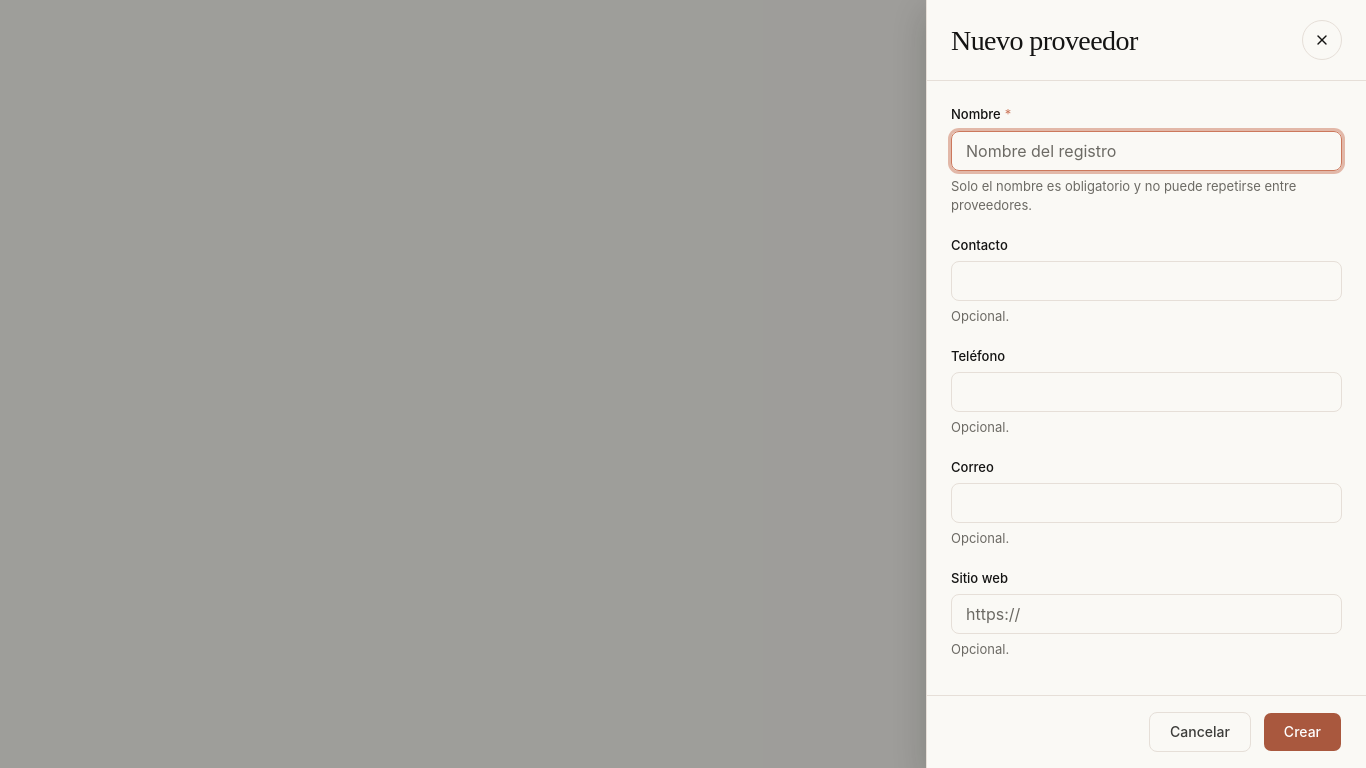
Test: ProveedorFormDialog › el sitio web www.proveedor.com muestra el error y no envía
In the field labelled "Nombre": (1146, 150) [951, 130, 1342, 170], type "Acme"
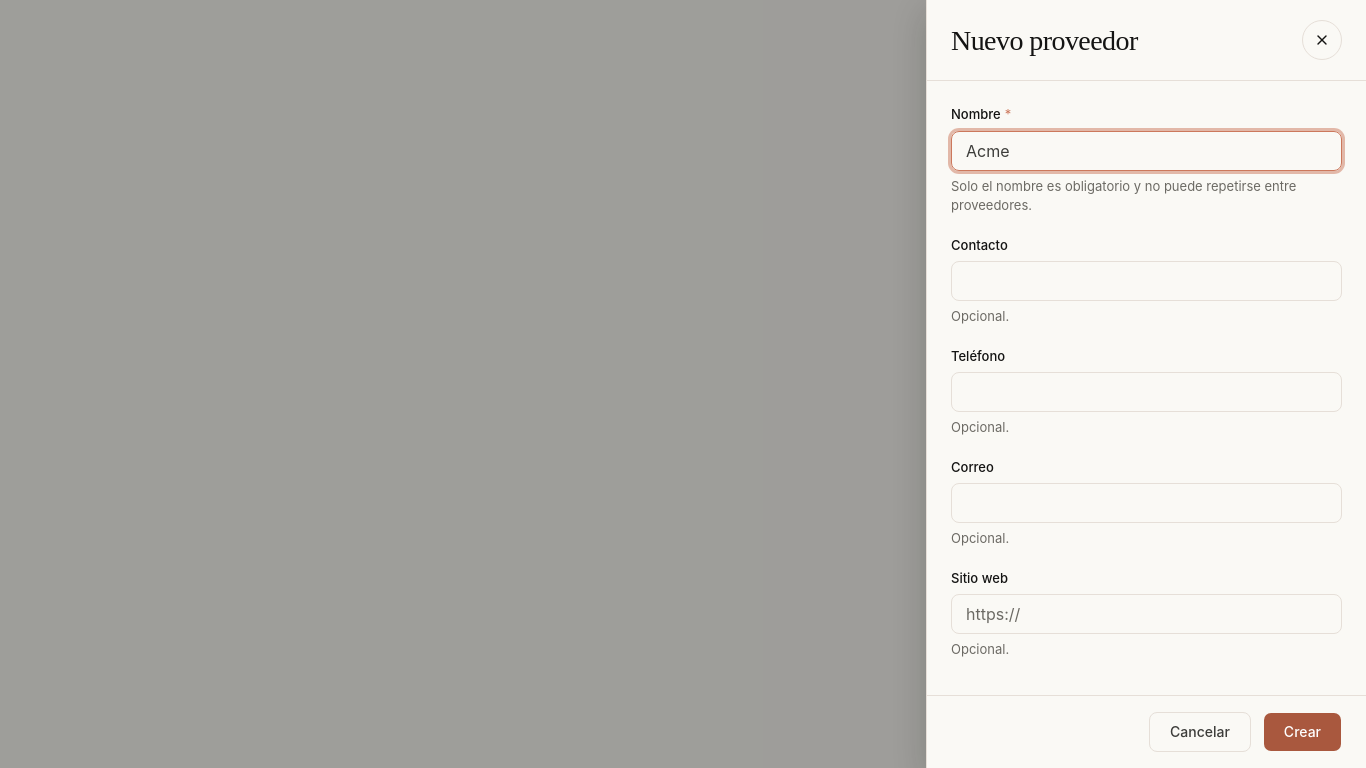
In the field labelled "Sitio web": (1146, 614) [951, 594, 1342, 634], type "www.proveedor.com"
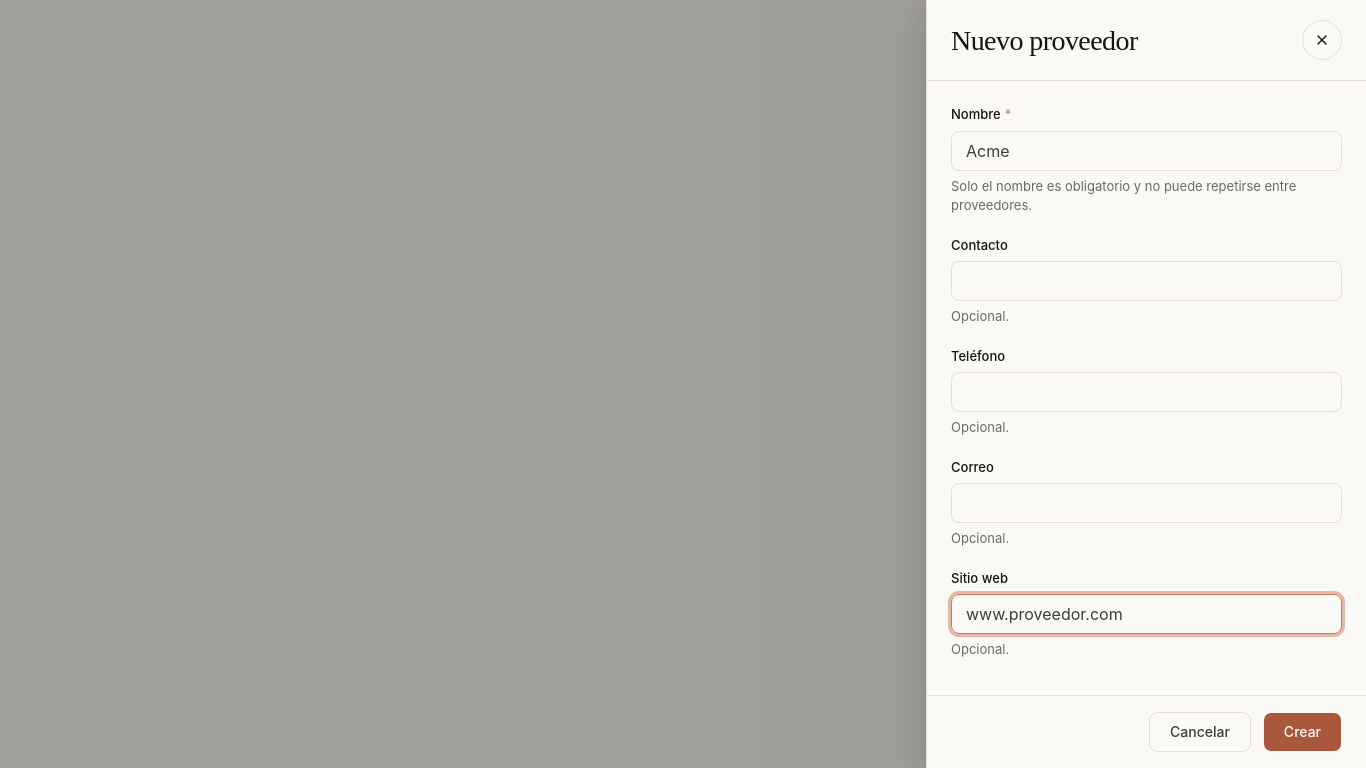
Click the button "Crear": (1302, 732) [1263, 712, 1342, 752]
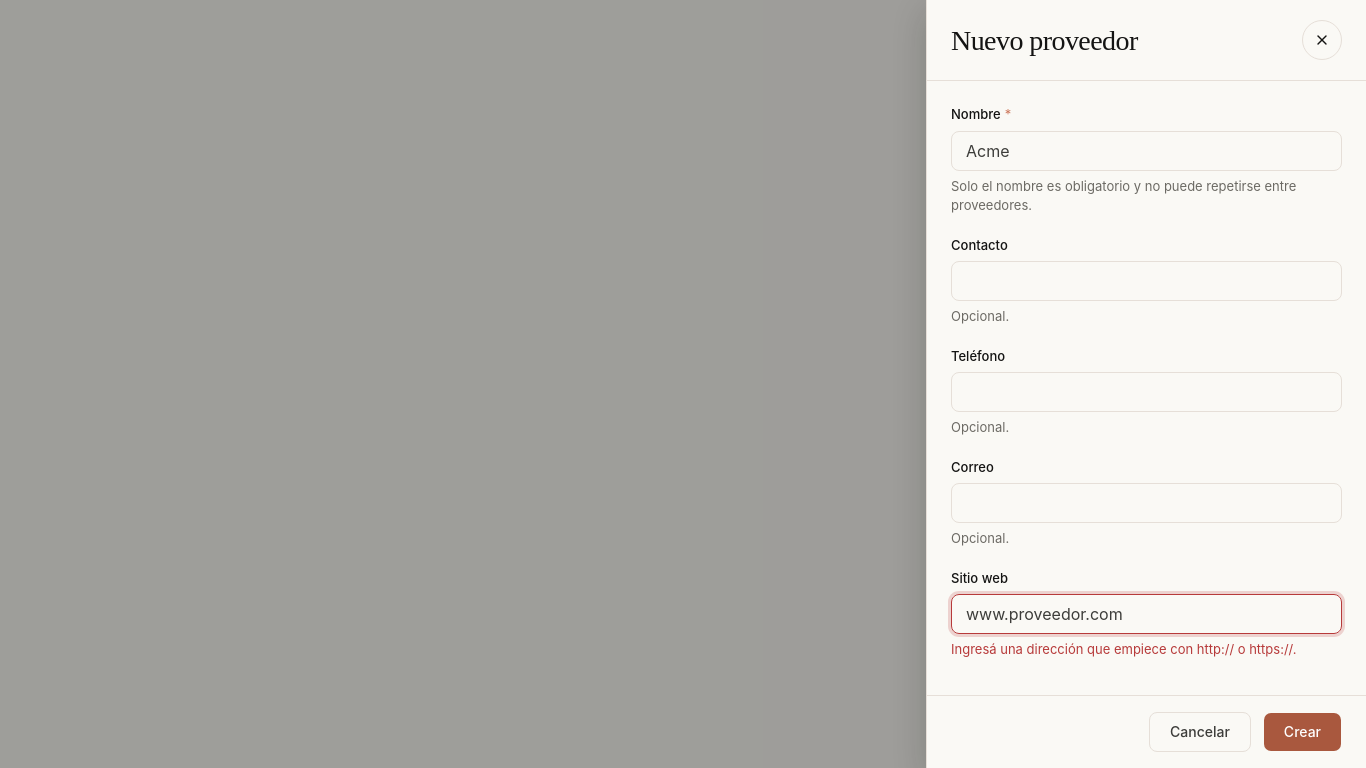
Expected: the text "Ingresá una dirección que empiece con http:// o https://." is shown, [951, 640, 1342, 660]
